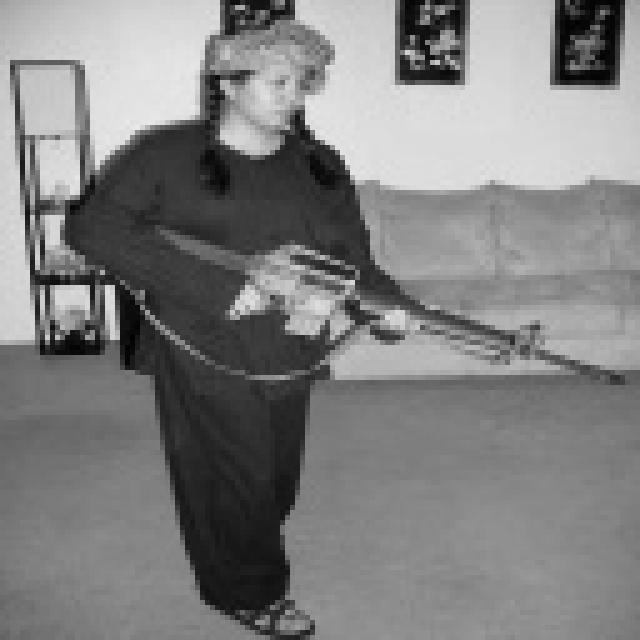Rifle: (125, 190, 640, 425)
